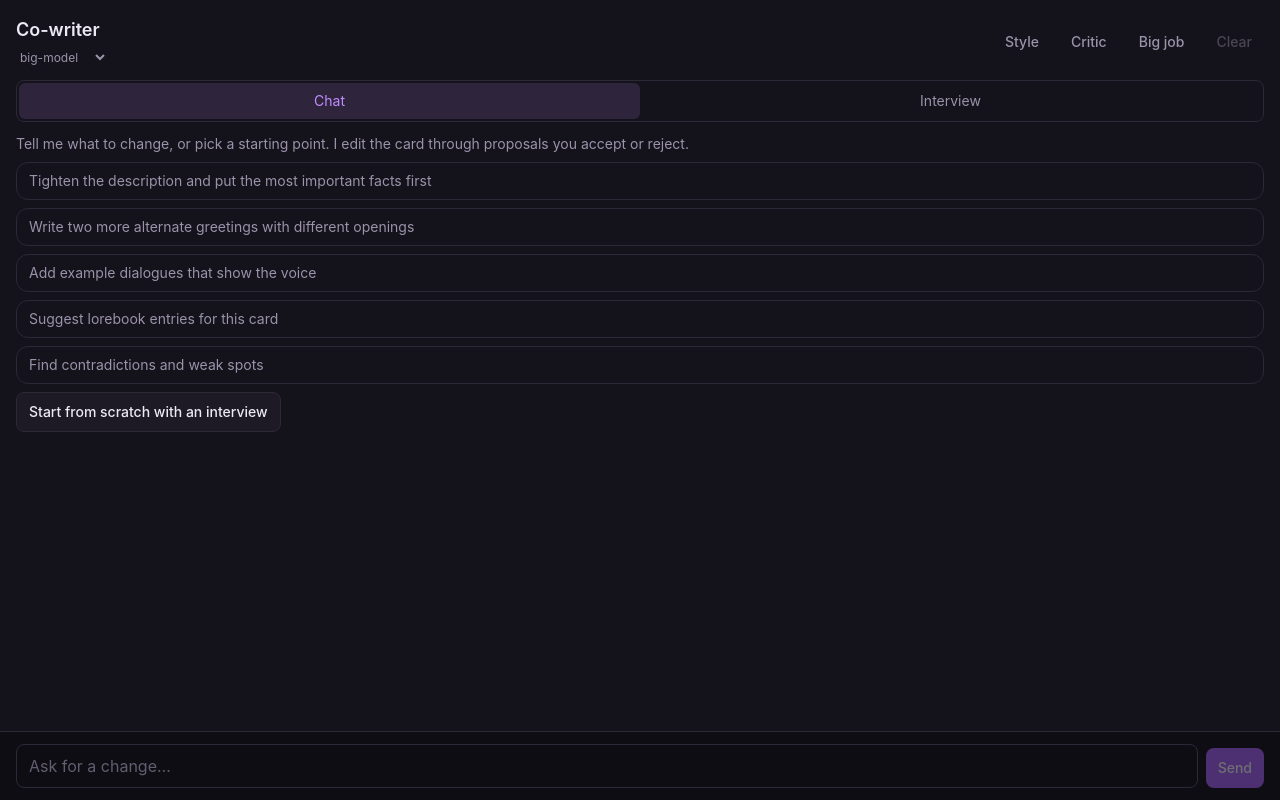
it: co-writer › falls back to JSON edits when the model can't use tools
Type "Set the scene" into the text box named "Message to the co-writer" at [607, 766], box left=16, top=744, right=1198, bottom=788
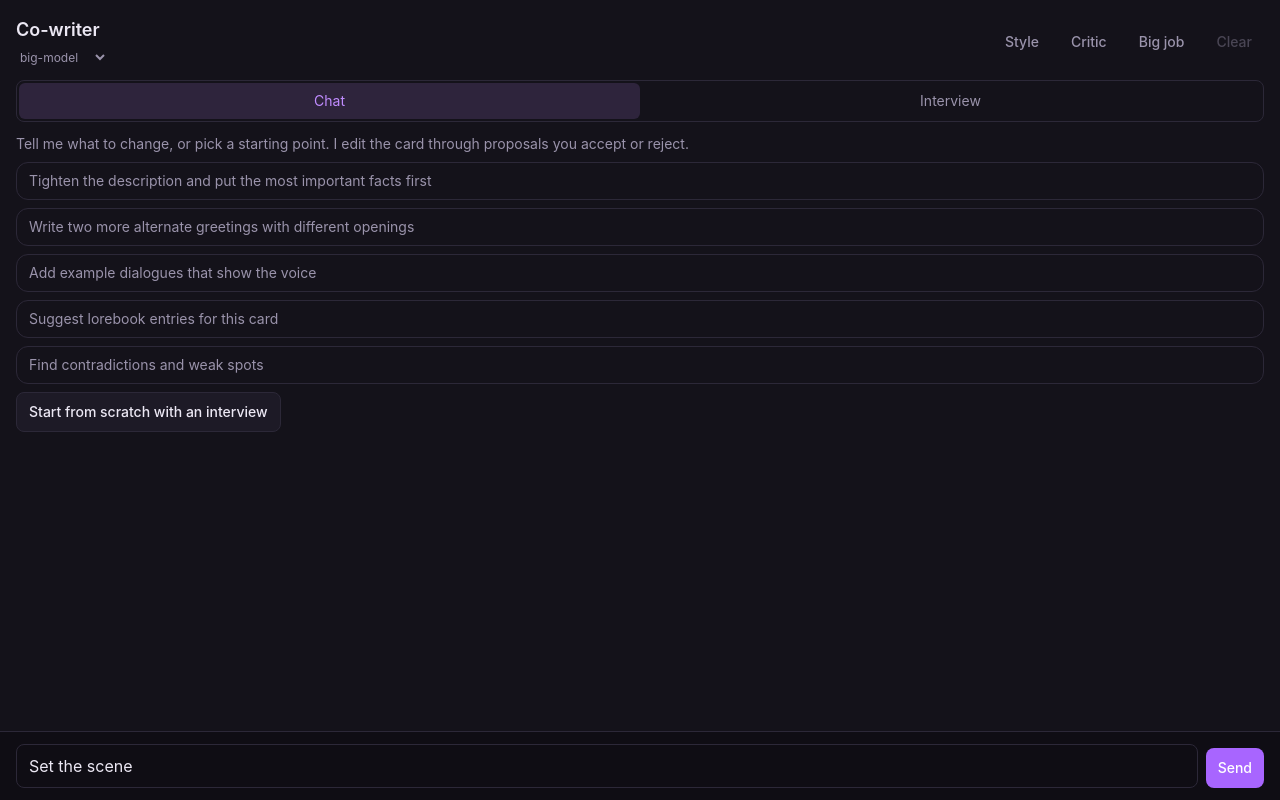
Click the button "Send" at [1235, 768], box left=1206, top=748, right=1264, bottom=788
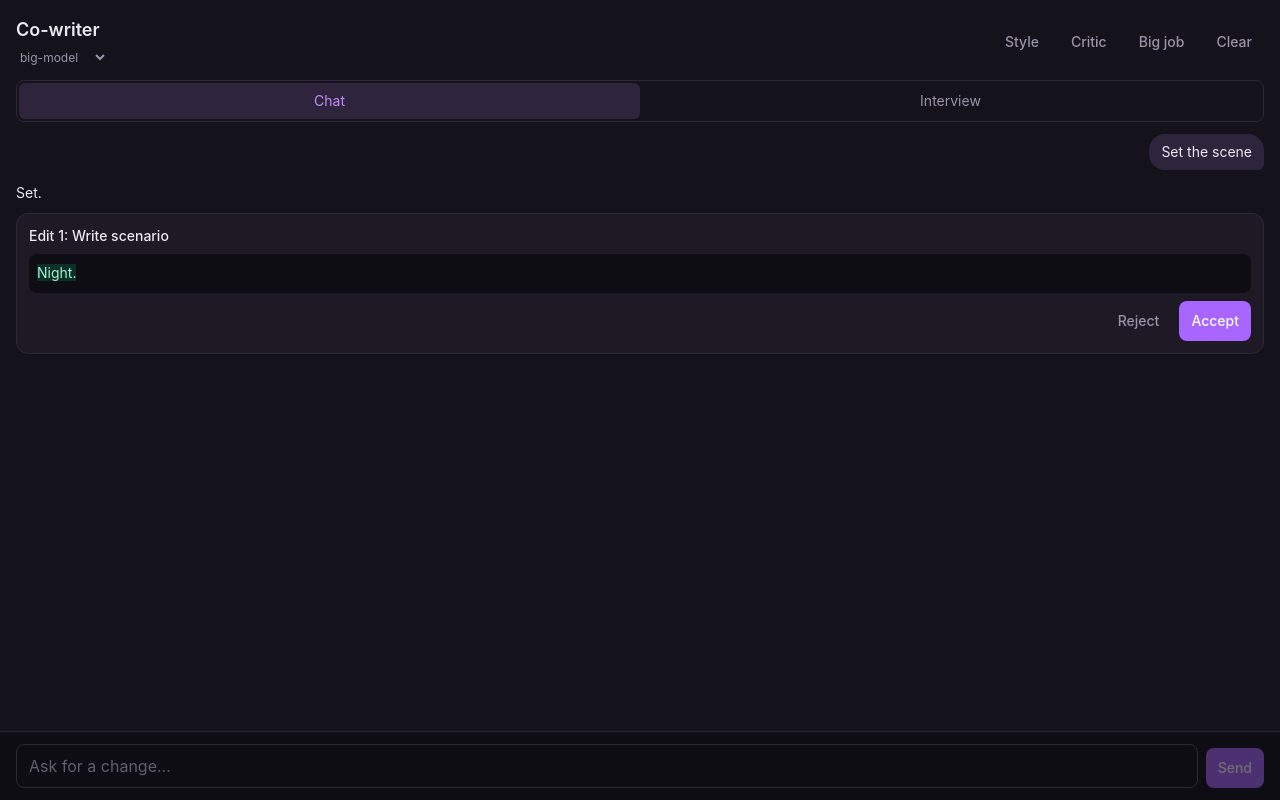
Check: the text "Edit 1: Write scenario" is shown, box left=29, top=226, right=169, bottom=246
